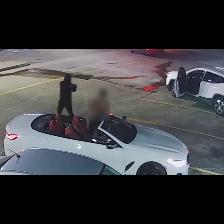person: (89, 89, 110, 134), (57, 74, 76, 118)
